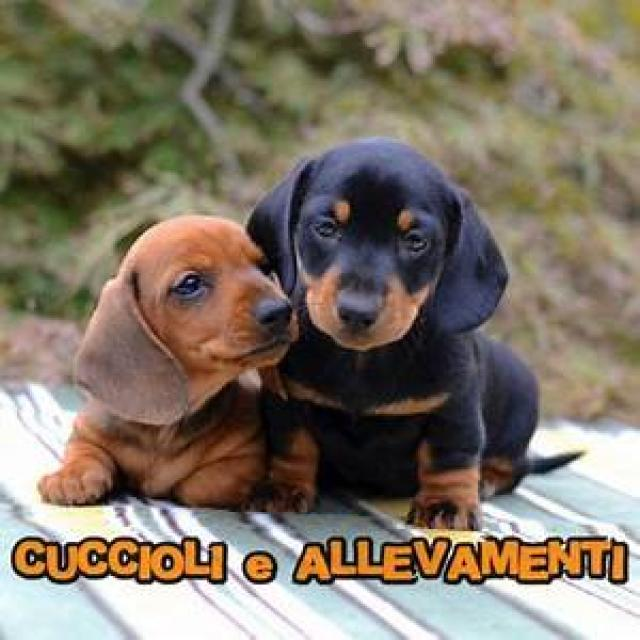dog: (245, 141, 542, 531), (38, 215, 316, 510)
